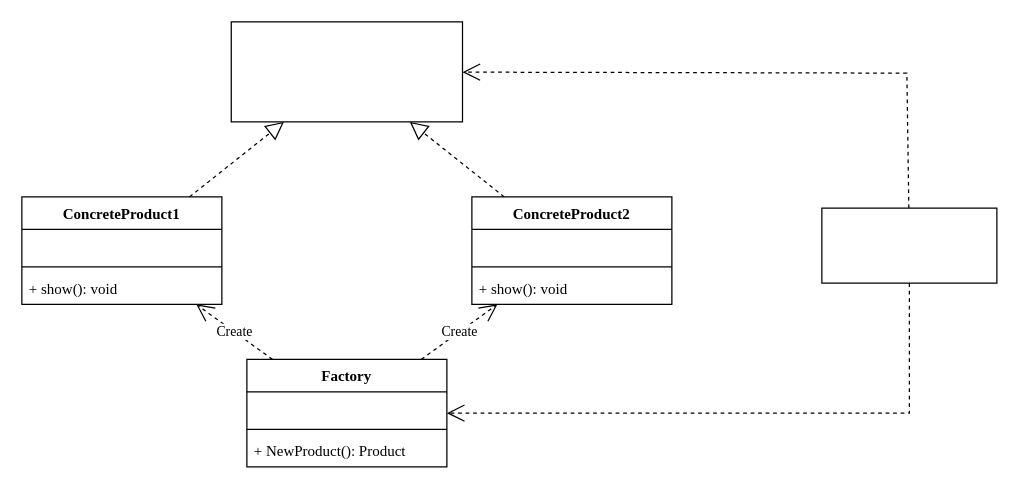
Image size: 1019x493. Some labels were removed from this diagram. The centre of each missing label's shape, as x and y in pixels:
"<<Interface>> Product + show(): void" goes at point (346, 71).
"Client" goes at point (909, 245).
